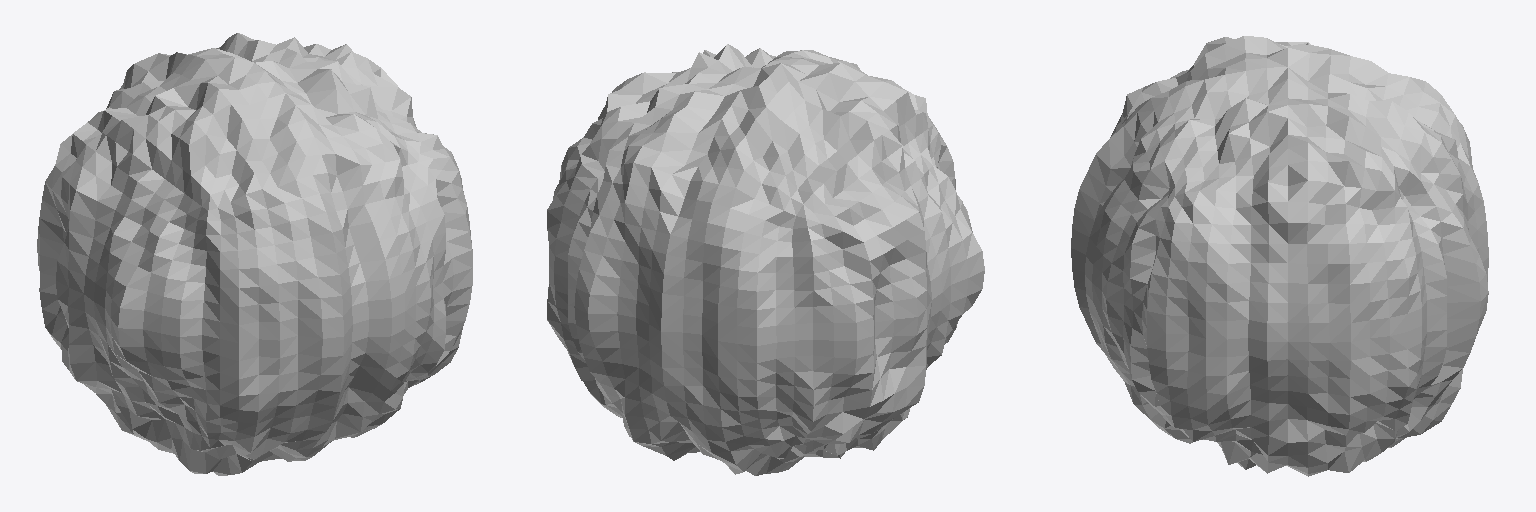
The model's file is asteroid66.obj.
3 renders of one model, left to right at view 1: azimuth 30°, elevation 25°; view 2: azimuth 150°, elevation 25°; view 3: azimuth 270°, elevation 25°, orthographic.
Visible parts, largest first — view 1: Cube_Cube.002; view 2: Cube_Cube.002; view 3: Cube_Cube.002.
Boxes of the visible parts, x1=… form: Cube_Cube.002: x1=37, y1=33, x2=472, y2=475; Cube_Cube.002: x1=547, y1=44, x2=984, y2=475; Cube_Cube.002: x1=1071, y1=36, x2=1488, y2=476.
Bounding box in the file's own units: 1.7 × 1.84 × 1.74.